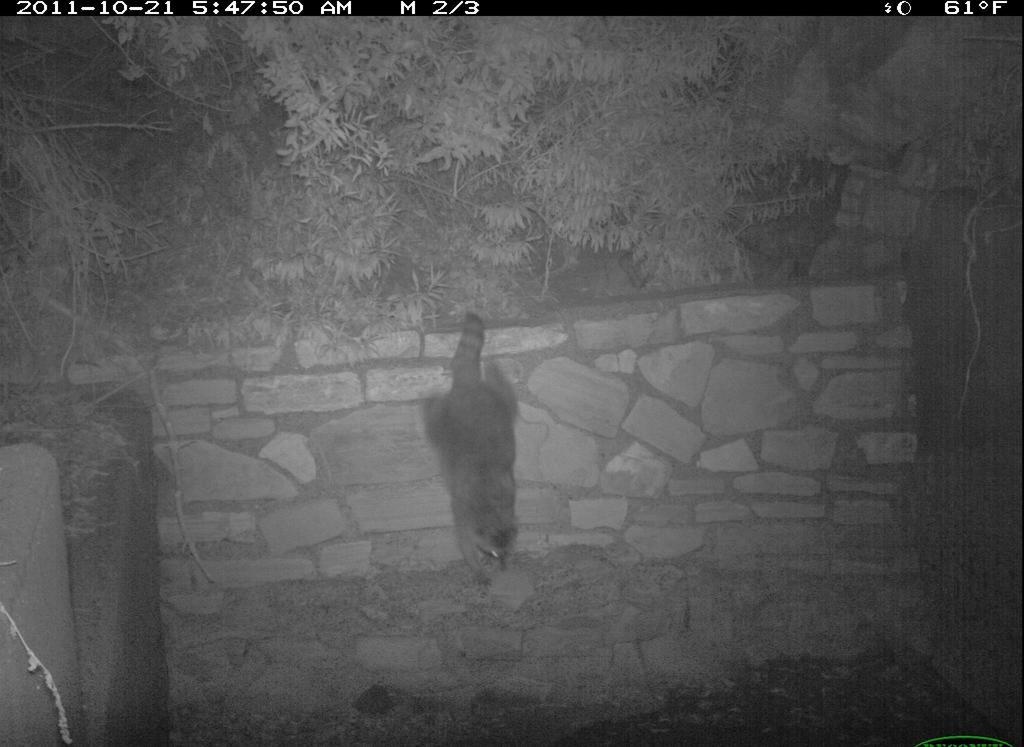raccoon: (411, 312, 566, 591)
